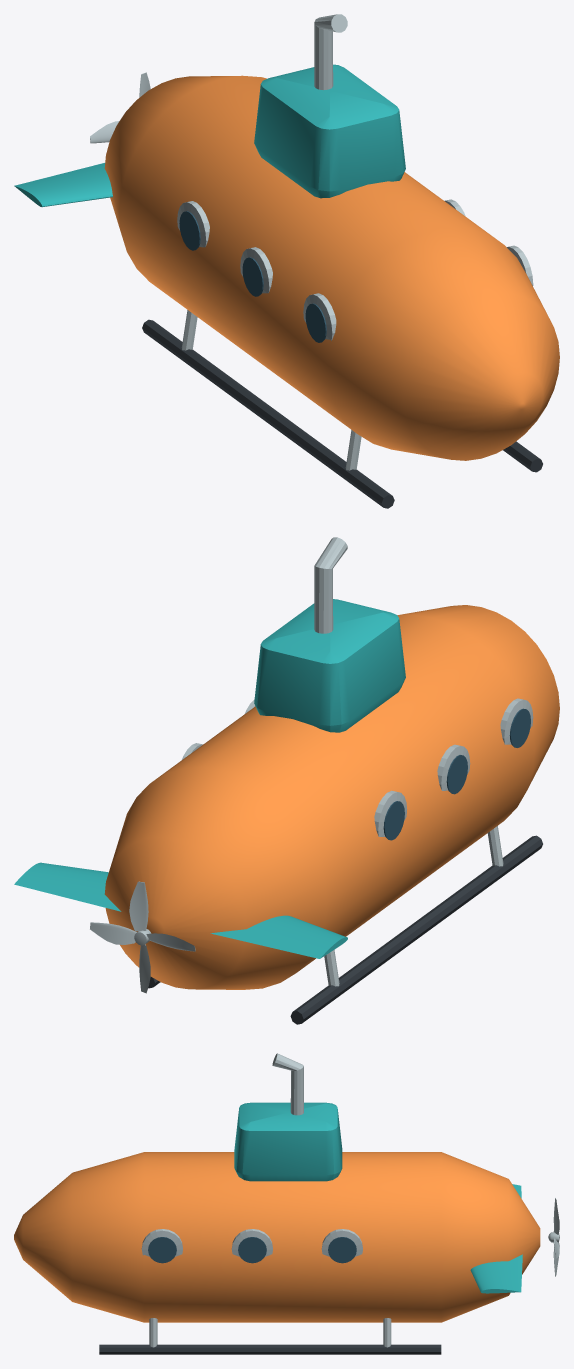
The model's file is air-land-sea-vehicles-research-submarine-961401c4__20033.glb.
3 views of the same model, one above another, from view 1: azimuth 30°, elevation 25°; view 2: azimuth 150°, elevation 25°; view 3: azimuth 270°, elevation 25° (orthographic). The views are drawn at different scales.
Visible parts, largest first — view 1: research-submarine; view 2: research-submarine, propeller; view 3: research-submarine, propeller.
Boxes of the visible parts, left/top/right/bottom form: research-submarine: left=14, top=14, right=559, bottom=508; research-submarine: left=14, top=537, right=559, bottom=1024; propeller: left=90, top=881, right=195, bottom=993; research-submarine: left=14, top=1053, right=540, bottom=1354; propeller: left=548, top=1198, right=559, bottom=1276.
Bounding box in the file's own units: 2.8 × 3.37 × 6.07.
